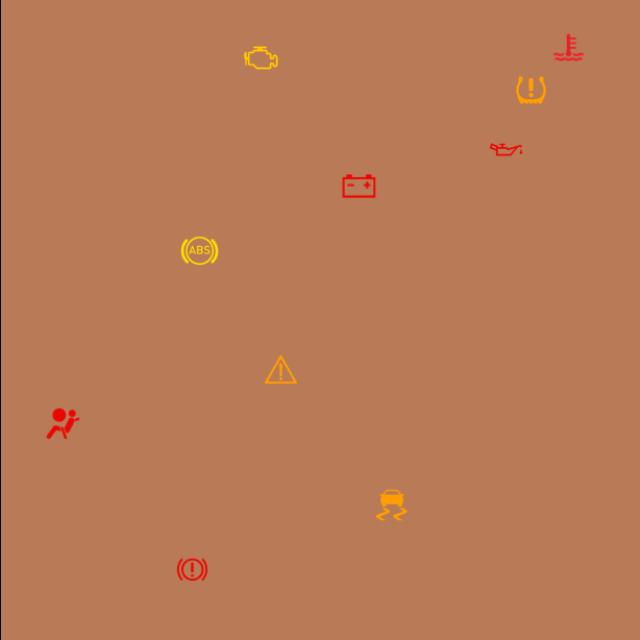Anti Lock Braking System: (178, 230, 218, 270)
Braking System Issue: (172, 549, 212, 590)
Charging System Issue: (338, 166, 378, 206)
Check Engine: (240, 38, 280, 78)
Electronic Stability Problem -ESP-: (370, 485, 410, 525)
Engine Overheating Warning Light: (548, 28, 588, 68)
Low Engine Oil Warning Light: (485, 130, 525, 170)
Low Tire Pressure Warning Light: (510, 70, 550, 110)
Master warning light: (260, 350, 300, 390)
SRS-Airbag: (42, 404, 82, 444)
